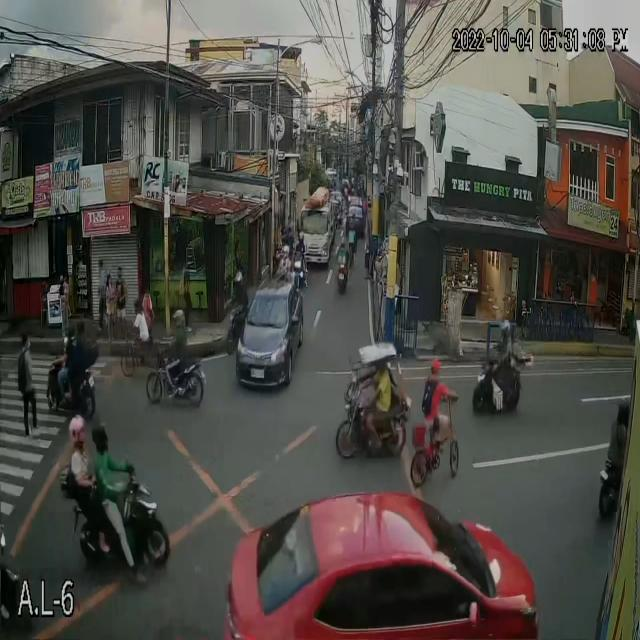Full-Faced: (67, 411, 88, 449), (164, 304, 188, 333), (90, 422, 110, 452), (614, 395, 630, 424), (495, 316, 510, 343), (229, 271, 244, 295), (62, 319, 73, 348), (74, 318, 86, 343), (292, 230, 306, 246), (280, 243, 290, 265), (341, 232, 348, 248), (350, 210, 358, 222)
Not-Wearing-Helmet: (429, 356, 445, 382)
